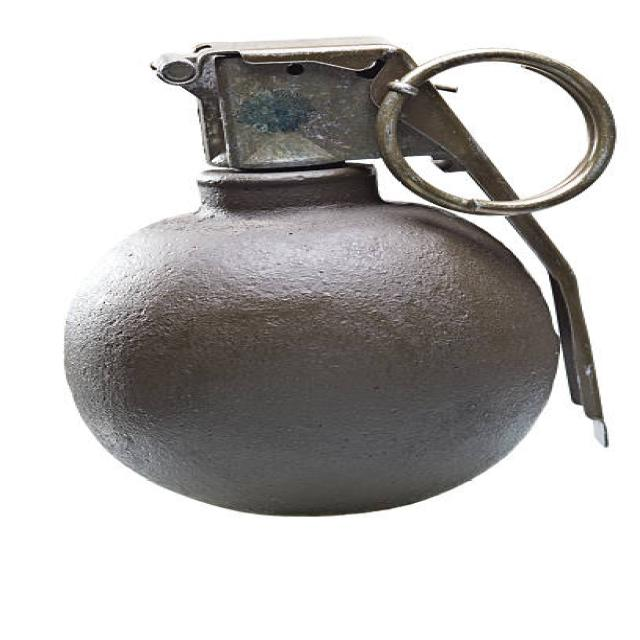grenade: (41, 42, 627, 534)
